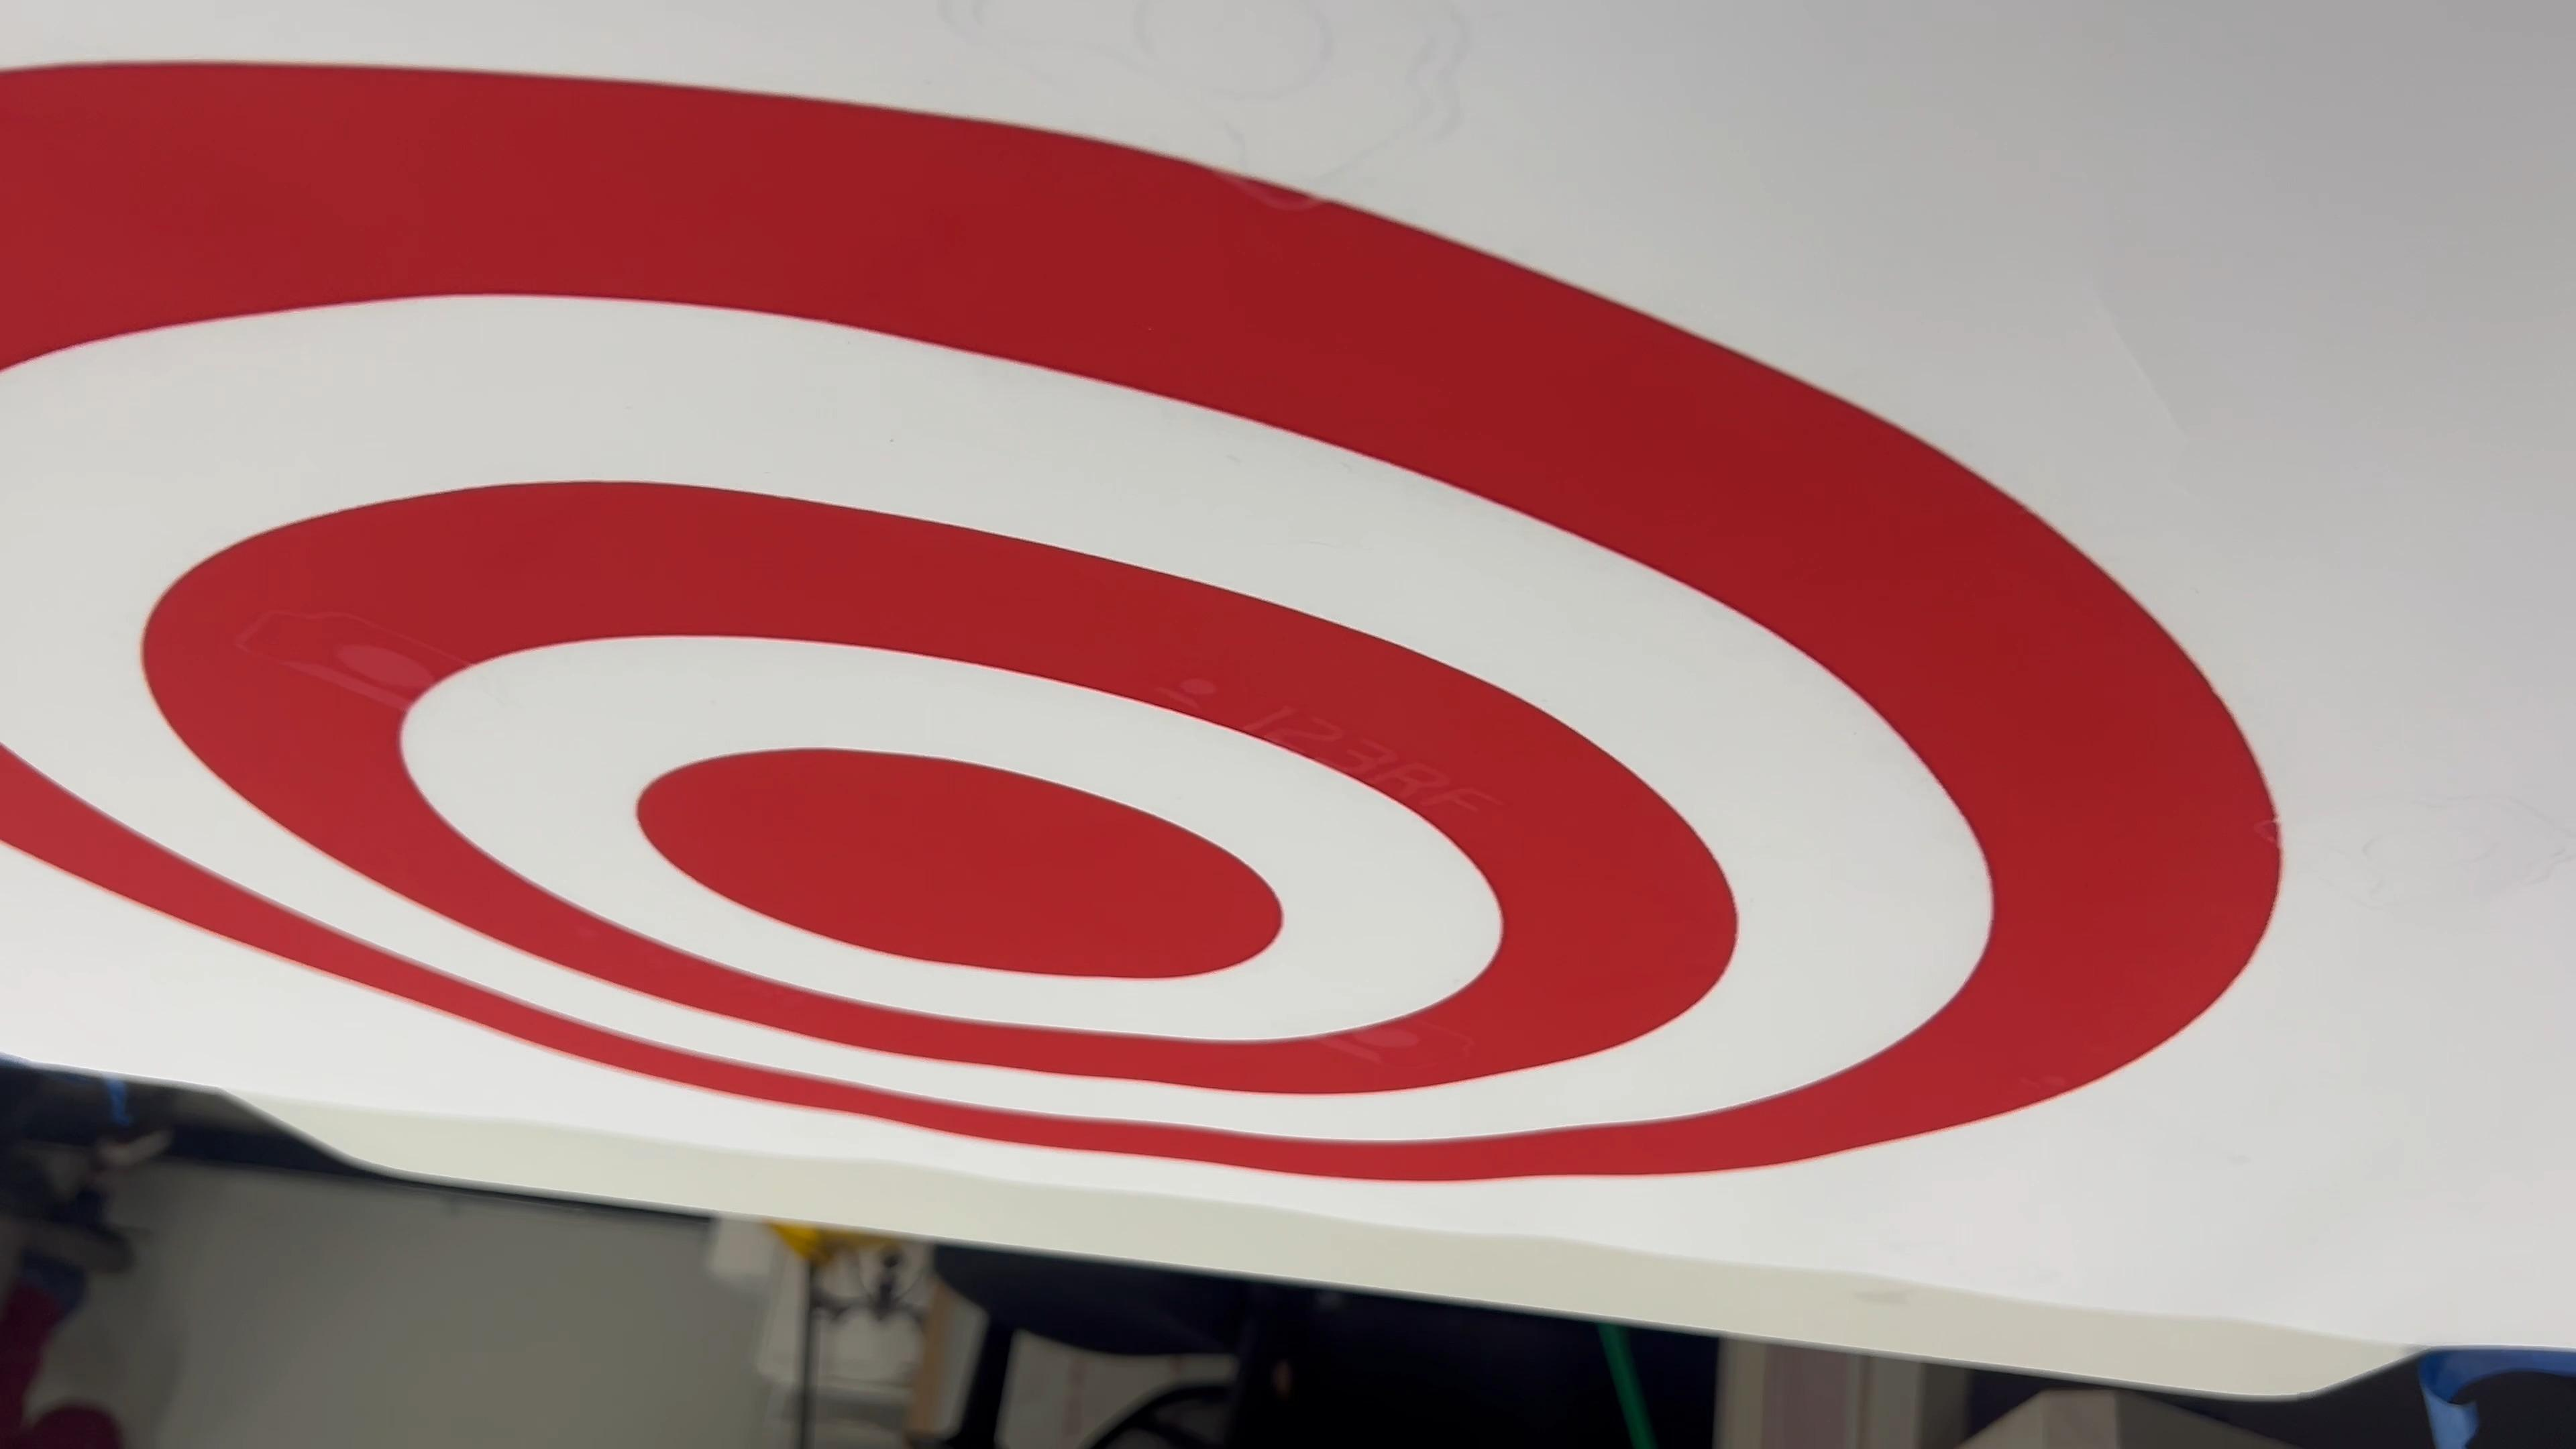target_red: (0, 0, 2357, 1261)
